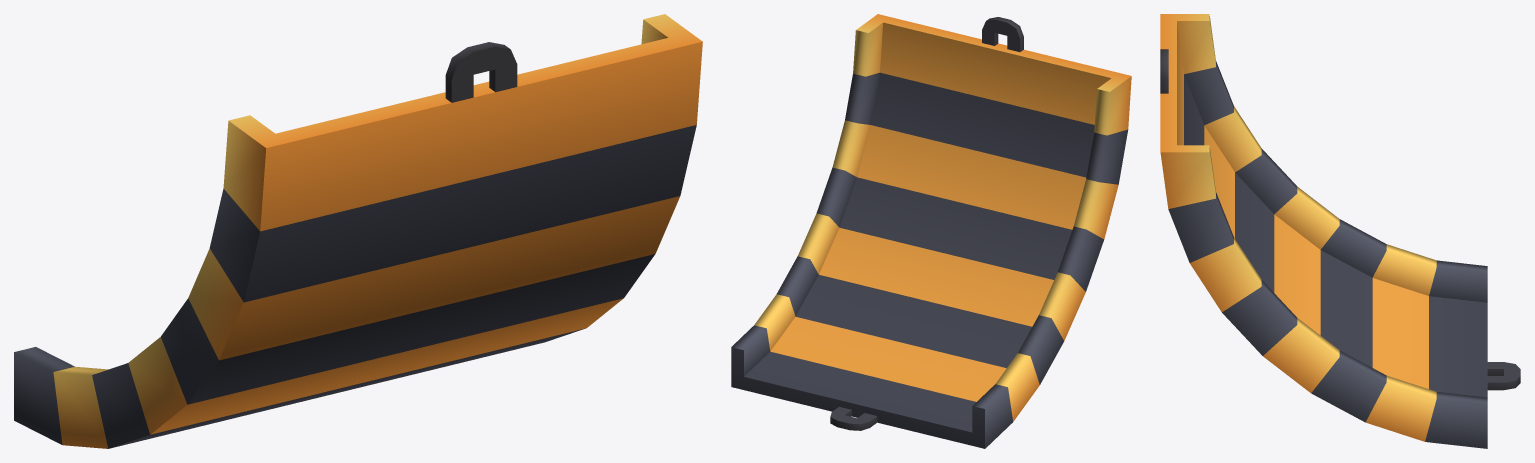
Rendered from track-striped-wide-straight-bend.fbx.
The picture shows the model from 3 angles, left to right: view 1: azimuth 30°, elevation 25°; view 2: azimuth 150°, elevation 25°; view 3: azimuth 270°, elevation 25°; orthographic projection. The views are drawn at different scales.
Visible parts, largest first — view 1: track-striped-wide-straight-bend; view 2: track-striped-wide-straight-bend; view 3: track-striped-wide-straight-bend.
Part boxes in pixels (x1,y1,x2,y2): track-striped-wide-straight-bend: (14, 14, 702, 448); track-striped-wide-straight-bend: (731, 14, 1131, 448); track-striped-wide-straight-bend: (1160, 14, 1520, 448).
Size of the model in its own units: 200 by 220 by 220.
